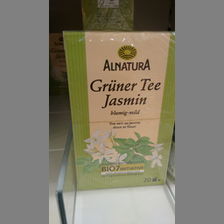tea: (63, 30, 173, 191)
